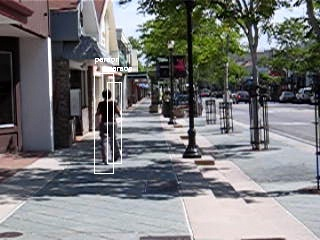person: (97, 89, 121, 166), (96, 89, 120, 166), (98, 89, 122, 166), (97, 88, 121, 165), (97, 90, 121, 167)
target_negative: (149, 10, 282, 193), (220, 85, 257, 182), (150, 105, 293, 125), (83, 192, 111, 212), (180, 47, 182, 124), (269, 114, 270, 230)
